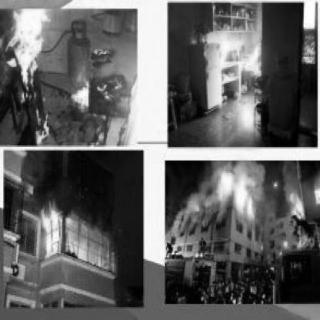Fire: (30, 204, 119, 270), (67, 67, 125, 111), (210, 174, 259, 223), (237, 29, 264, 79), (282, 187, 312, 220)
